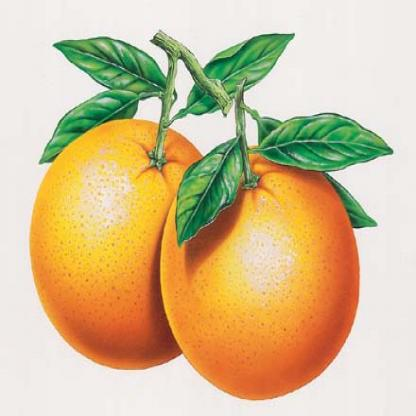orange: (154, 136, 364, 401), (27, 118, 216, 387)
